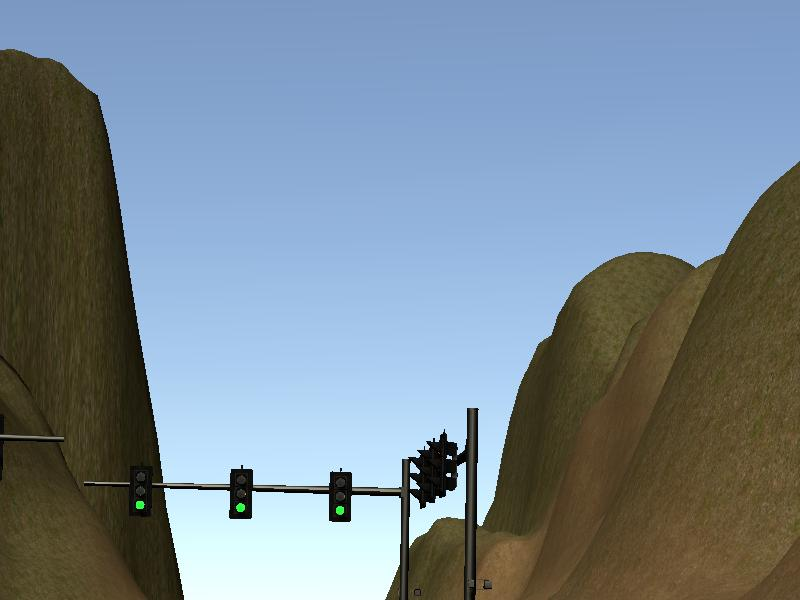Green: (130, 463, 152, 516), (330, 474, 352, 522), (231, 469, 252, 519)
